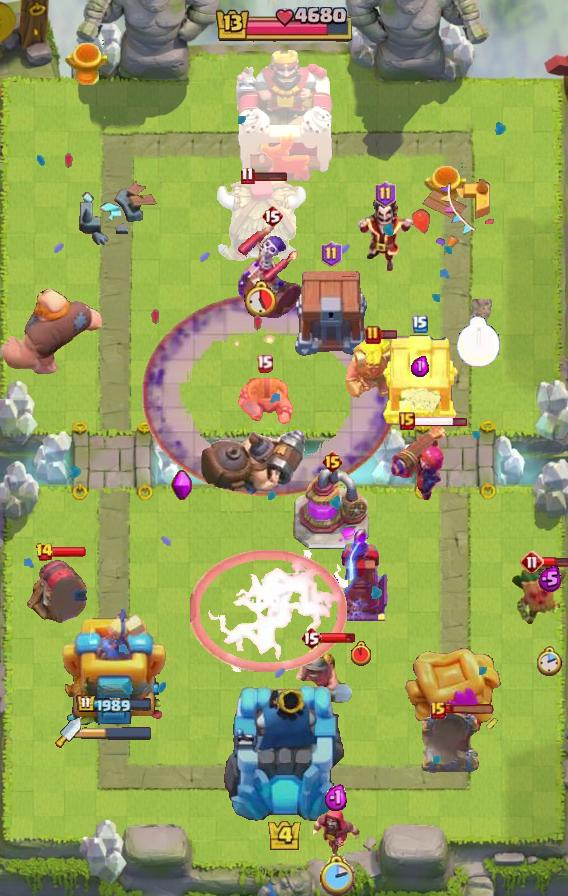balloon: (0, 286, 104, 378)
bandit: (292, 640, 356, 704)
bar: (62, 601, 166, 731)
barbarian-evolution: (190, 550, 348, 672)
bomb: (380, 332, 460, 426), (292, 271, 370, 357)
bowler: (311, 805, 361, 859)
clock: (213, 7, 355, 45)
electro-spirit: (323, 784, 348, 812), (538, 565, 562, 593), (411, 355, 429, 377)
elixir: (455, 316, 500, 368), (318, 854, 354, 896), (244, 279, 276, 316), (537, 646, 563, 677), (351, 642, 371, 667)
emote: (413, 415, 468, 428), (444, 705, 496, 716), (252, 170, 288, 182), (51, 546, 87, 558), (320, 632, 356, 644), (542, 556, 568, 568), (379, 329, 398, 340)
fisherman: (462, 299, 494, 329)
goblin-barrel: (510, 561, 568, 629)
goblin-giant: (233, 376, 295, 428)
goblin-hut: (341, 335, 429, 399)
ice-spirit-evolution-symbol: (331, 527, 391, 623)
king-tower: (221, 682, 347, 826), (232, 45, 336, 181)
king-tower-bar: (81, 726, 153, 740)
lumberjack: (354, 198, 416, 274)
mega-minion: (389, 422, 449, 502)
musketeer: (418, 710, 482, 776)
pekka: (293, 469, 371, 551)
prince: (213, 177, 307, 267)
rocket: (142, 293, 398, 497)
royal-giant-evolution: (24, 556, 92, 626)
selected: (75, 693, 152, 714)
skeleton-king-bar: (237, 222, 307, 322)
skeleton-king-skill: (171, 469, 193, 503)
text: (520, 550, 544, 574), (321, 241, 343, 267), (320, 450, 343, 474), (375, 181, 396, 207), (261, 204, 283, 228), (300, 626, 322, 650), (35, 542, 54, 562), (365, 325, 381, 345), (256, 355, 273, 373), (412, 315, 428, 333), (399, 412, 415, 430), (430, 701, 446, 719), (241, 167, 256, 186)
wizard: (197, 427, 309, 497)
